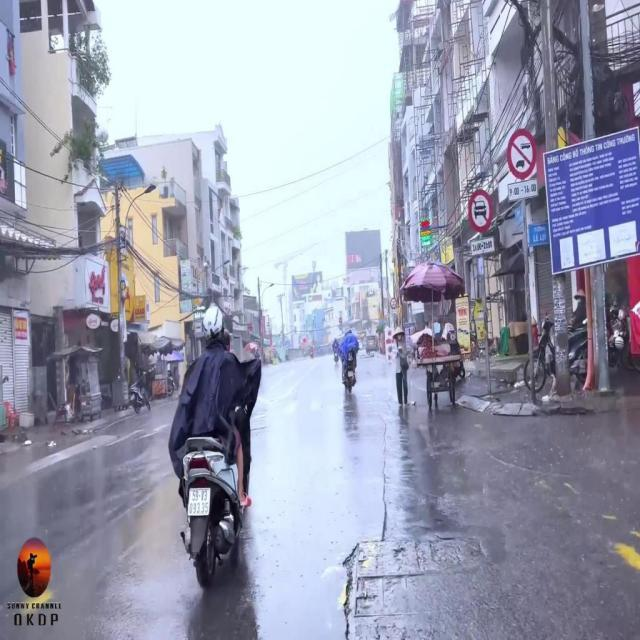103a-cam-oto: (466, 190, 494, 232)
107-cam-oto-khach-va-oto-tai: (506, 128, 536, 180), (391, 298, 397, 308)
